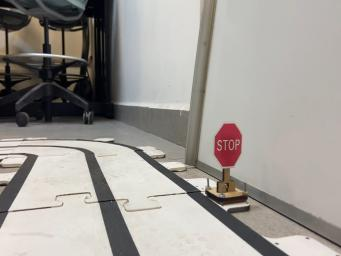stop: (206, 123, 248, 204), (206, 123, 248, 204), (206, 123, 248, 204), (206, 123, 248, 204), (206, 123, 248, 204), (206, 123, 248, 204)
street: (0, 140, 286, 256), (0, 140, 286, 256), (0, 140, 286, 256), (0, 140, 286, 256), (0, 140, 286, 256), (0, 140, 286, 256)
